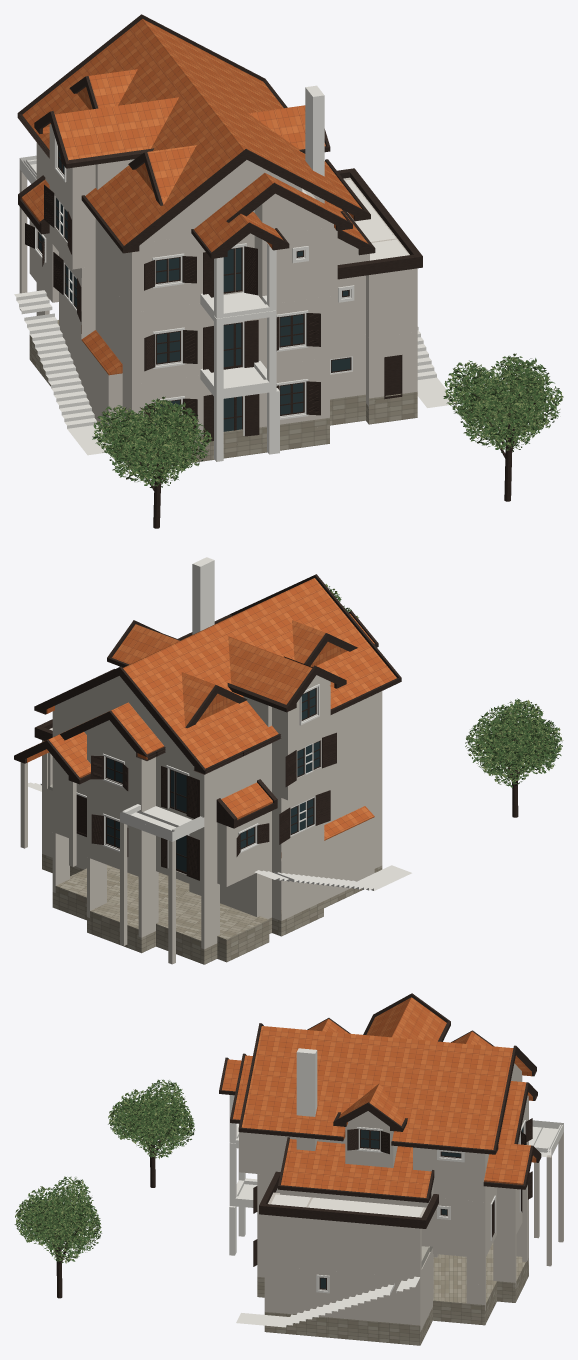
The model's file is context-detail-b16.glb.
The picture shows the model from 3 angles, top to bottom: view 1: azimuth 30°, elevation 25°; view 2: azimuth 150°, elevation 25°; view 3: azimuth 270°, elevation 25°; orthographic projection. The views are drawn at different scales.
Visible parts, largest first — view 1: B16 | ÇATII.003, B16 | KAT 1$DUVAR, B16 | KAT 2$DUVAR, B16 | KAT 0$DUVAR, B16 | ek dalgalar, B16 | ÇATI ALIN.002, Individual folded leaves.012, Individual folded leaves.011, B16 | KAT 3$DUVAR, B16 foundation below BK, B16 | PENCERE_KAPI$SHUTTER.001, B16 | ÇATI ALIN (+18 smaller); view 2: B16 | ÇATII.003, B16 | KAT 0$DUVAR, B16 | KAT 1$DUVAR, B16 | KAT 2$DUVAR, B16 foundation below BK, B16 | ÇATI ALIN.002, Individual folded leaves.011, B16 | KAT 3$DUVAR, B16 | ÇATI ALIN.001, B16 | PENCERE_KAPI$SHUTTER.001, B16 | ÇATII.002, B16 | PENCERE_KAPI$SHUTTER.002 (+9 smaller); view 3: B16 | ÇATII.003, B16 | KAT 1$DUVAR, B16 | KAT 0$DUVAR, B16 foundation below BK, B16 | ÇATII.002, B16 | KAT 2$DUVAR, Individual folded leaves.012, Individual folded leaves.011, B16 | ÇATI ALIN.002, B16 | ek dalgalar, B16 | ÇATI ALIN.001, B16 | ÇATI ALIN (+6 smaller).
Part boxes in pixels (bbox=[...]): B16 | ÇATII.003: bbox=[22, 19, 361, 252]; B16 | KAT 1$DUVAR: bbox=[29, 177, 417, 384]; B16 | KAT 2$DUVAR: bbox=[36, 142, 369, 312]; B16 | KAT 0$DUVAR: bbox=[19, 169, 417, 435]; B16 | ek dalgalar: bbox=[14, 290, 455, 461]; B16 | ÇATI ALIN.002: bbox=[18, 14, 370, 258]; Individual folded leaves.012: bbox=[443, 353, 563, 452]; Individual folded leaves.011: bbox=[92, 396, 212, 487]; B16 | KAT 3$DUVAR: bbox=[49, 124, 333, 242]; B16 foundation below BK: bbox=[29, 320, 417, 470]; B16 | PENCERE_KAPI$SHUTTER.001: bbox=[25, 223, 320, 372]; B16 | ÇATI ALIN: bbox=[18, 168, 422, 279]; B16 | ÇATII.003: bbox=[70, 578, 396, 768]; B16 | KAT 0$DUVAR: bbox=[42, 794, 382, 964]; B16 | KAT 1$DUVAR: bbox=[20, 728, 382, 889]; B16 | KAT 2$DUVAR: bbox=[52, 691, 382, 825]; B16 foundation below BK: bbox=[42, 854, 382, 964]; B16 | ÇATI ALIN.002: bbox=[34, 574, 401, 773]; Individual folded leaves.011: bbox=[465, 698, 563, 787]; B16 | KAT 3$DUVAR: bbox=[55, 675, 330, 760]; B16 | ÇATI ALIN.001: bbox=[14, 614, 401, 822]; B16 | PENCERE_KAPI$SHUTTER.001: bbox=[91, 790, 330, 880]; B16 | ÇATII.002: bbox=[27, 705, 272, 817]; B16 | PENCERE_KAPI$SHUTTER.002: bbox=[91, 666, 336, 818]; B16 | ÇATII.003: bbox=[222, 997, 532, 1149]; B16 | KAT 1$DUVAR: bbox=[257, 1161, 539, 1278]; B16 | KAT 0$DUVAR: bbox=[257, 1132, 563, 1331]; B16 foundation below BK: bbox=[257, 1242, 528, 1345]; B16 | ÇATII.002: bbox=[281, 1071, 536, 1197]; B16 | KAT 2$DUVAR: bbox=[239, 1075, 528, 1207]; Individual folded leaves.012: bbox=[14, 1176, 101, 1263]; Individual folded leaves.011: bbox=[108, 1079, 194, 1158]; B16 | ÇATI ALIN.002: bbox=[219, 993, 537, 1153]; B16 | ek dalgalar: bbox=[229, 1178, 419, 1327]; B16 | ÇATI ALIN.001: bbox=[219, 1068, 541, 1202]; B16 | ÇATI ALIN: bbox=[259, 1171, 438, 1228].
Size of the model in its own units: 21.26 by 14.71 by 29.04.
Materials: 12 (12 with a texture image).
